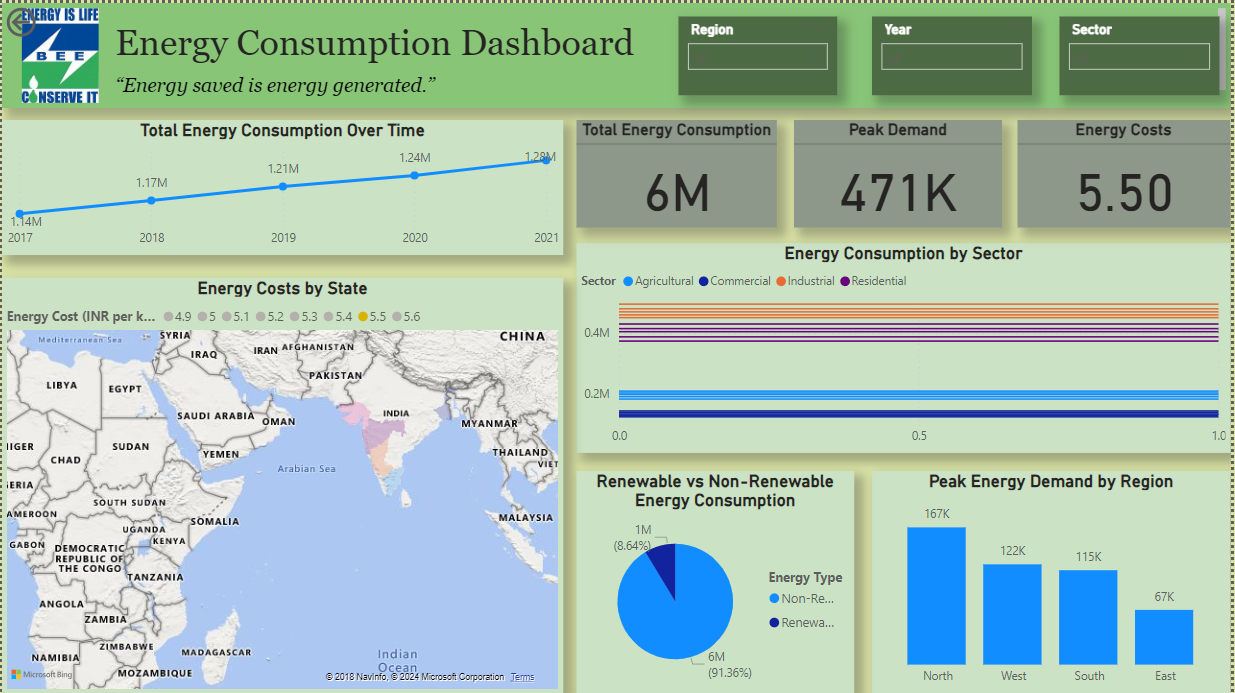

What the dashboard file says about the page in this screenshot:
{"tool":"powerbi","page":{"name":"Page 1","canvas":[1280,720],"ordinal":0},"visuals":[{"type":"textbox","box":[0,0,1279.4,109.6],"z":0},{"type":"image","box":[0,0,121.1,109],"z":1},{"type":"lineChart","title":"Total Energy Consumption Over Time","fields":{"Category":["Energy Consumption by Sector.Year"],"Y":["Sum(Energy Consumption by Sector.Energy Consumption (GWh))"]},"box":[0,122.7,584.5,140.8],"z":2},{"type":"barChart","title":"Energy Consumption by Sector","fields":{"Category":["Energy Consumption by Sector.Energy Consumption (GWh)"],"Y":["Count(Energy Consumption by Sector.Year)"],"Series":["Energy Consumption by Sector.Sector"]},"box":[598.1,245.3,681.4,224.1],"z":3},{"type":"slicer","fields":{"Values":["Peak Energy Demand by Region.Region"]},"box":[704.1,13.6,165,81.8],"z":4},{"type":"clusteredColumnChart","title":"Peak Energy Demand by Region","fields":{"Category":["Peak Energy Demand by Region.Region"],"Y":["Sum(Peak Energy Demand by Region.Peak Demand (MW))"]},"box":[905.5,483,374,236.2],"z":5},{"type":"slicer","fields":{"Values":["Peak Energy Demand by Region.Year"]},"box":[905.5,13.6,166.6,81.8],"z":6},{"type":"filledMap","title":"Energy Costs by State","fields":{"Category":["Energy Costs by State.State"],"Series":["Energy Costs by State.Energy Cost (INR per kWh)"]},"box":[0,278.6,584.5,440.6],"z":7},{"type":"actionButton","box":[0,0,100,40],"z":8},{"type":"pieChart","title":"Renewable vs Non-Renewable Energy Consumption","fields":{"Y":["Sum(Renewable vs Non-Renewable Energy Consumption.Consumption (GWh))"],"Category":["Renewable vs Non-Renewable Energy Consumption.Energy Type"]},"box":[598.1,483,296.8,236.2],"z":9},{"type":"slicer","fields":{"Values":["Energy Consumption by Sector.Sector"]},"box":[1100.8,13.6,166.6,81.8],"z":10},{"type":"card","title":"Total Energy Consumption","fields":{"Values":["Sum(Energy Consumption by Sector.Energy Consumption (GWh))"]},"box":[598.1,122.7,209,112.1],"z":11},{"type":"card","title":"Peak Demand","fields":{"Values":["Sum(Peak Energy Demand by Region.Peak Demand (MW))"]},"box":[825.2,122.7,216.5,112.1],"z":12},{"type":"card","title":"Energy Costs","fields":{"Values":["Sum(Energy Costs by State.Energy Cost (INR per kWh))"]},"box":[1058.4,122.7,221.1,112.1],"z":13}]}

Visuals, with their boxes in screenshot pixels (x1, y1, x2, y2), scaled from the page's 1280x720 canvas onto the 1235x693 screenshot:
textbox: x1=0 y1=0 x2=1234 y2=105
image: x1=0 y1=0 x2=117 y2=105
"Total Energy Consumption Over Time" lineChart: x1=0 y1=118 x2=564 y2=254
"Energy Consumption by Sector" barChart: x1=577 y1=236 x2=1234 y2=452
slicer - Peak Energy Demand by Region.Region: x1=679 y1=13 x2=839 y2=92
"Peak Energy Demand by Region" clusteredColumnChart: x1=874 y1=465 x2=1234 y2=692
slicer - Peak Energy Demand by Region.Year: x1=874 y1=13 x2=1034 y2=92
"Energy Costs by State" filledMap: x1=0 y1=268 x2=564 y2=692
actionButton: x1=0 y1=0 x2=96 y2=38
"Renewable vs Non-Renewable Energy Consumption" pieChart: x1=577 y1=465 x2=863 y2=692
slicer - Energy Consumption by Sector.Sector: x1=1062 y1=13 x2=1223 y2=92
"Total Energy Consumption" card: x1=577 y1=118 x2=779 y2=226
"Peak Demand" card: x1=796 y1=118 x2=1005 y2=226
"Energy Costs" card: x1=1021 y1=118 x2=1234 y2=226
